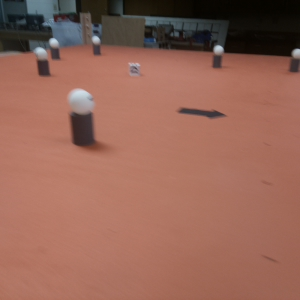obstacle: (67, 87, 95, 146), (34, 47, 49, 75), (212, 44, 223, 69), (291, 49, 299, 75), (49, 39, 59, 59), (91, 37, 100, 54)
